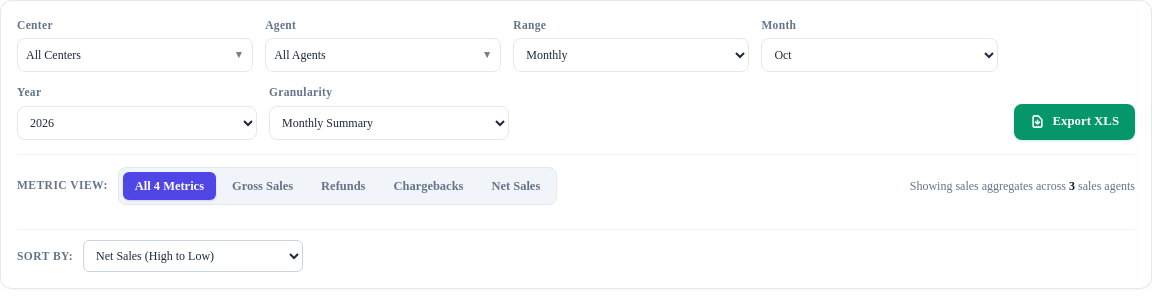
Scenario: W-4403: ReportFilterBar Component (Advance Performance Chart Style) › Phase 46 — Synchronized "All" Checkboxes & Active/Inactive Group Filters › renders all individual Center checkboxes as checked when selectedTeamIds is empty (All Centers)
The image size is (1152, 306).
Note: Open Center dropdown via select button
Click the button with id "center-select": coordinates (135, 55) [17,38,253,72]
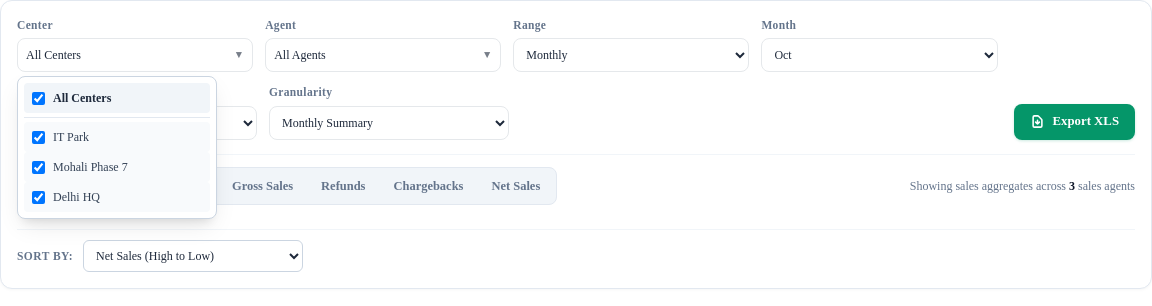
Expected: the 1st checkbox is checked, [32,92,45,105]
Expected: the checkbox next to "IT Park" is checked, [32,131,45,144]
Expected: the checkbox next to "Mohali Phase 7" is checked, [32,161,45,174]
